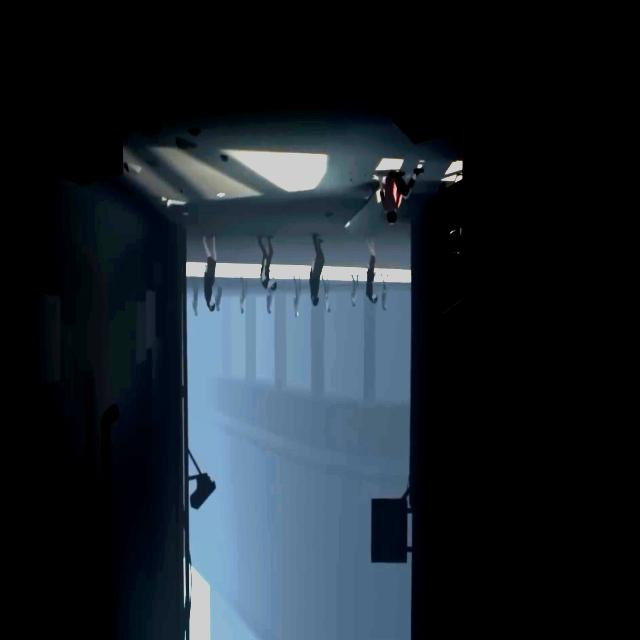boy: (378, 168, 424, 226)
zombie: (309, 234, 325, 306), (257, 234, 277, 291), (203, 236, 217, 312), (364, 240, 378, 304), (322, 274, 331, 314), (294, 276, 302, 317), (240, 279, 248, 315), (351, 275, 360, 306), (381, 273, 388, 312), (192, 280, 199, 318), (217, 278, 222, 312), (267, 292, 274, 315)
